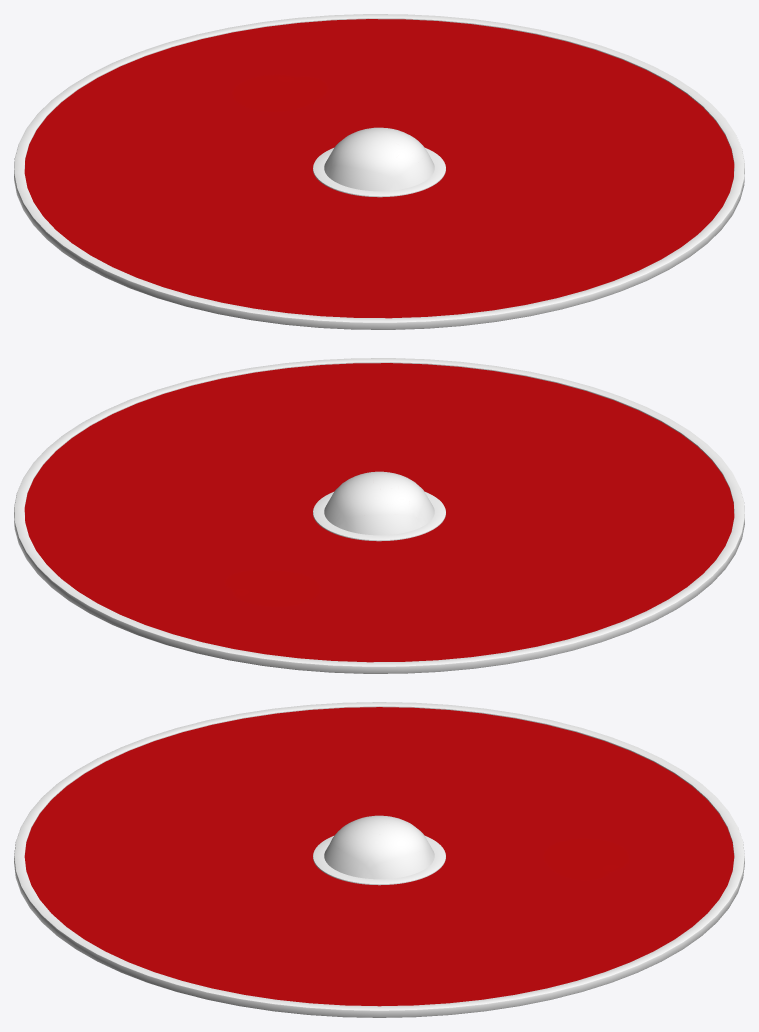
The model's file is Skjold.glb.
The picture shows the model from 3 angles, top to bottom: view 1: azimuth 30°, elevation 25°; view 2: azimuth 150°, elevation 25°; view 3: azimuth 270°, elevation 25°; orthographic projection.
Visible parts, largest first — view 1: Shield; view 2: Shield; view 3: Shield.
Boxes of the visible parts, box(x1,y1,x2,y2) form: Shield: box(14, 14, 744, 329); Shield: box(14, 358, 744, 673); Shield: box(14, 702, 744, 1017).
Bounding box in the file's own units: 0.9028 × 0.0765 × 0.9028.
Materials: 1 (1 with a texture image).
